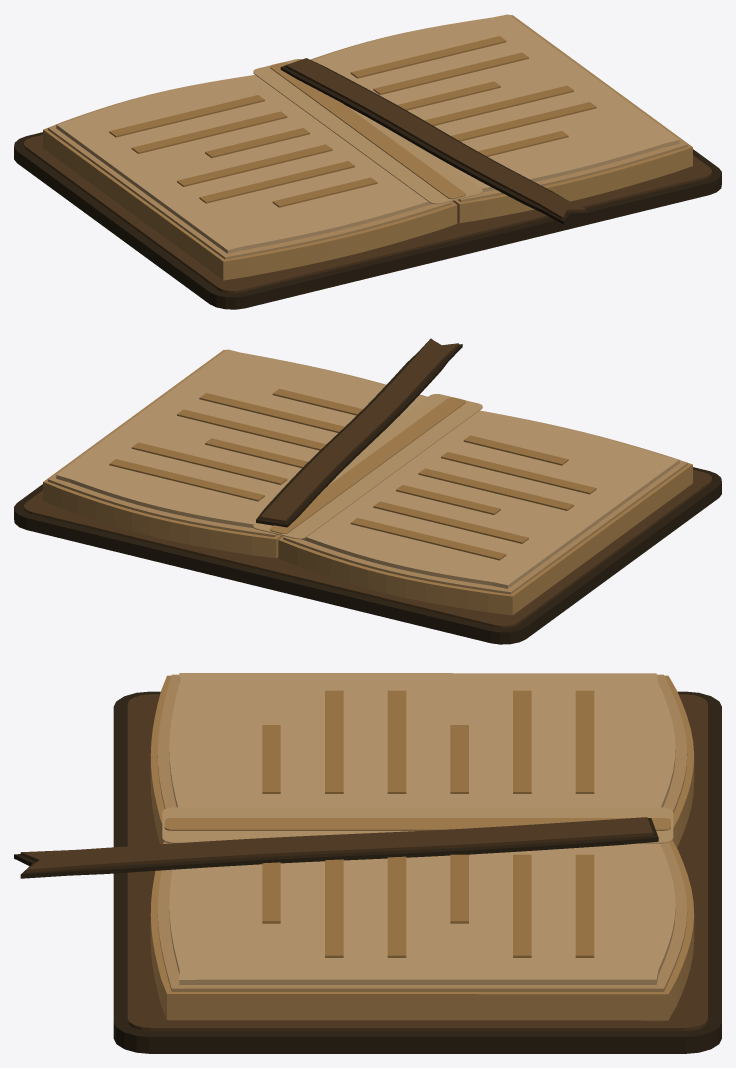
The model's file is book_aberto.fbx.
3 renders of one model, top to bottom at view 1: azimuth 30°, elevation 25°; view 2: azimuth 150°, elevation 25°; view 3: azimuth 270°, elevation 25°, orthographic. The views are drawn at different scales.
Parts seen in each view (by area): view 1: book_aberto_livro; view 2: book_aberto_livro; view 3: book_aberto_livro.
Boxes of the visible parts, x1,y1,x2,y2 form: book_aberto_livro: (14, 14, 721, 309); book_aberto_livro: (14, 338, 721, 644); book_aberto_livro: (14, 673, 721, 1053).
Size of the model in its own units: 3.52 by 0.305 by 3.05.
1 material, 1 textured.
